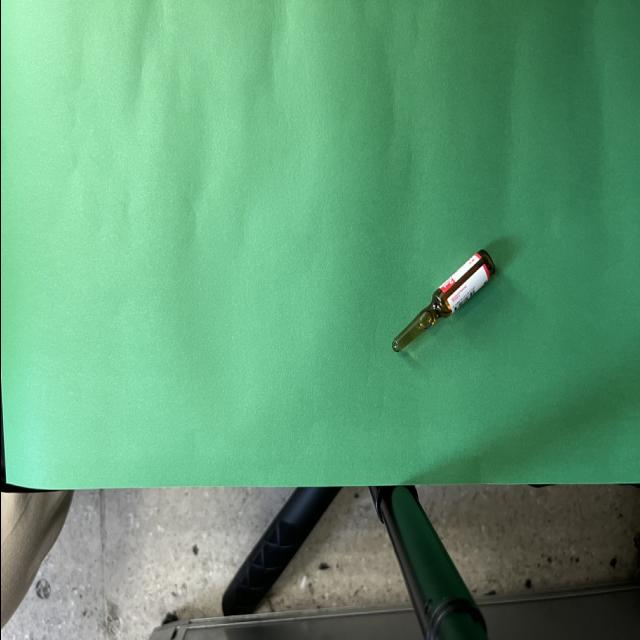Ampoules: (391, 249, 494, 352)
